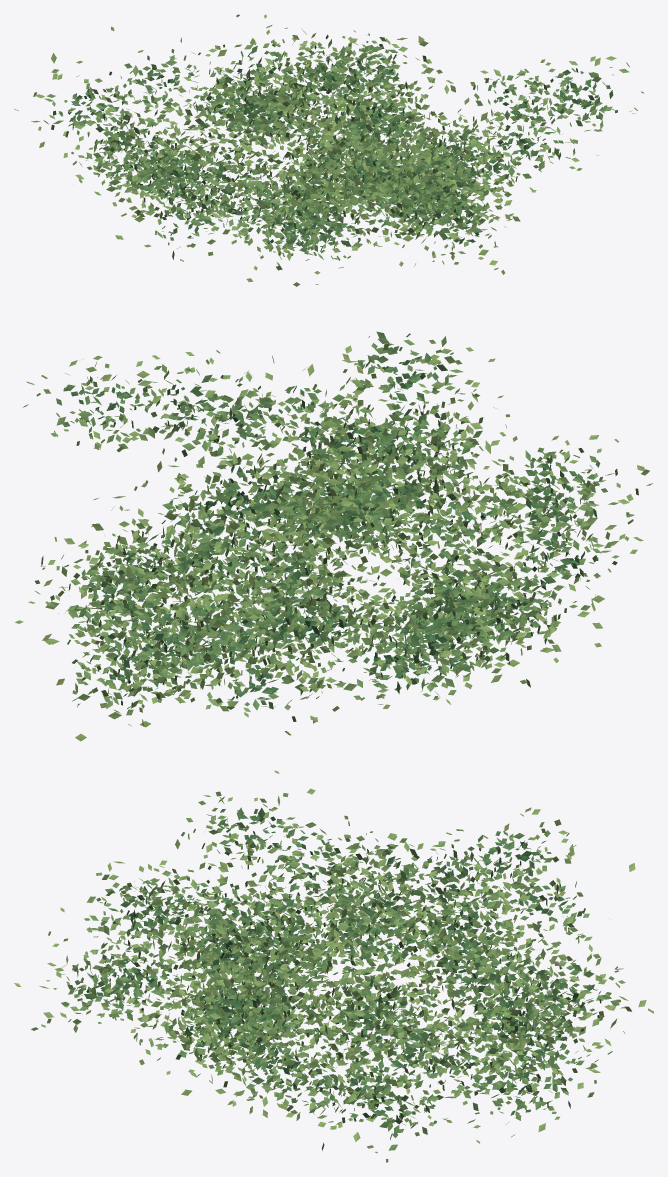
The model's file is holy_canopy4.glb.
The picture shows the model from 3 angles, top to bottom: view 1: azimuth 30°, elevation 25°; view 2: azimuth 150°, elevation 25°; view 3: azimuth 270°, elevation 25°; orthographic projection. The views are drawn at different scales.
Visible parts, largest first — view 1: holy_canopy4; view 2: holy_canopy4; view 3: holy_canopy4.
Part boxes in pixels (x1,y1,x2,y2): holy_canopy4: [14, 14, 643, 286]; holy_canopy4: [15, 331, 652, 741]; holy_canopy4: [14, 770, 653, 1162].
Bounding box in the file's own units: 36.51 × 17.21 × 34.92.
1 material, 1 textured.
